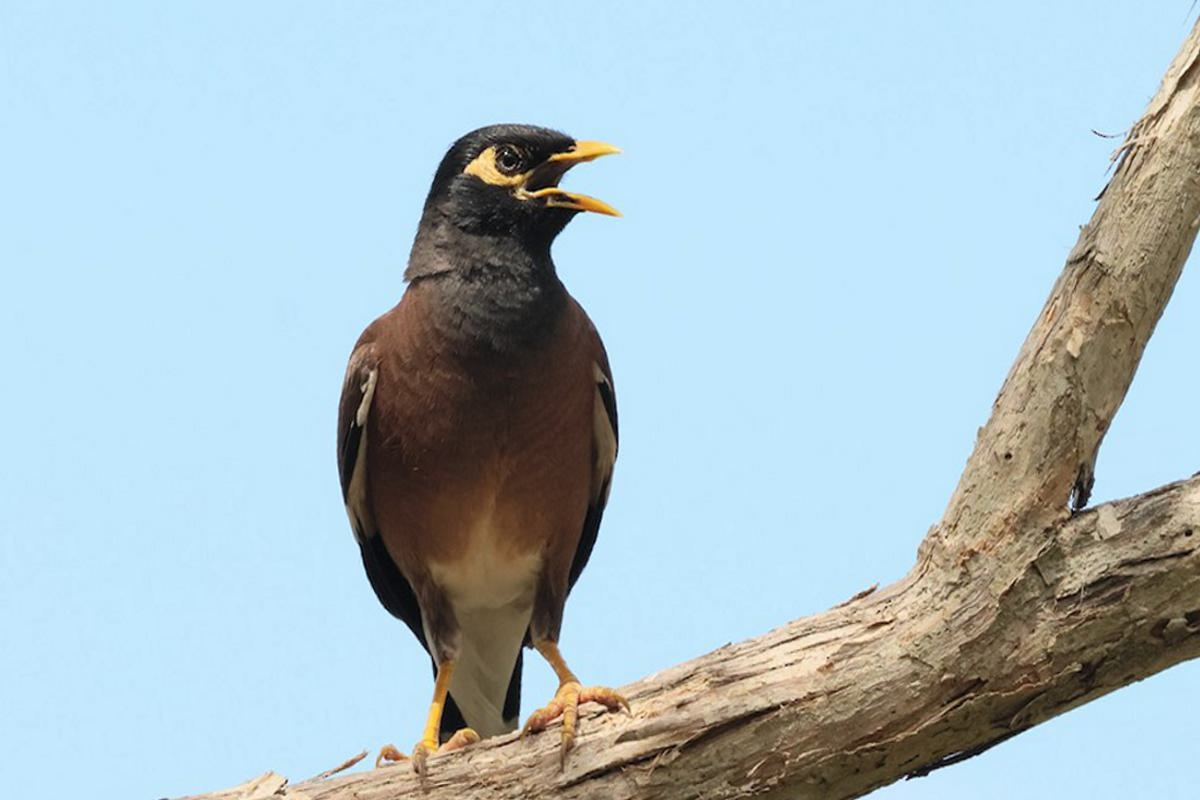myna: (341, 104, 679, 756)
